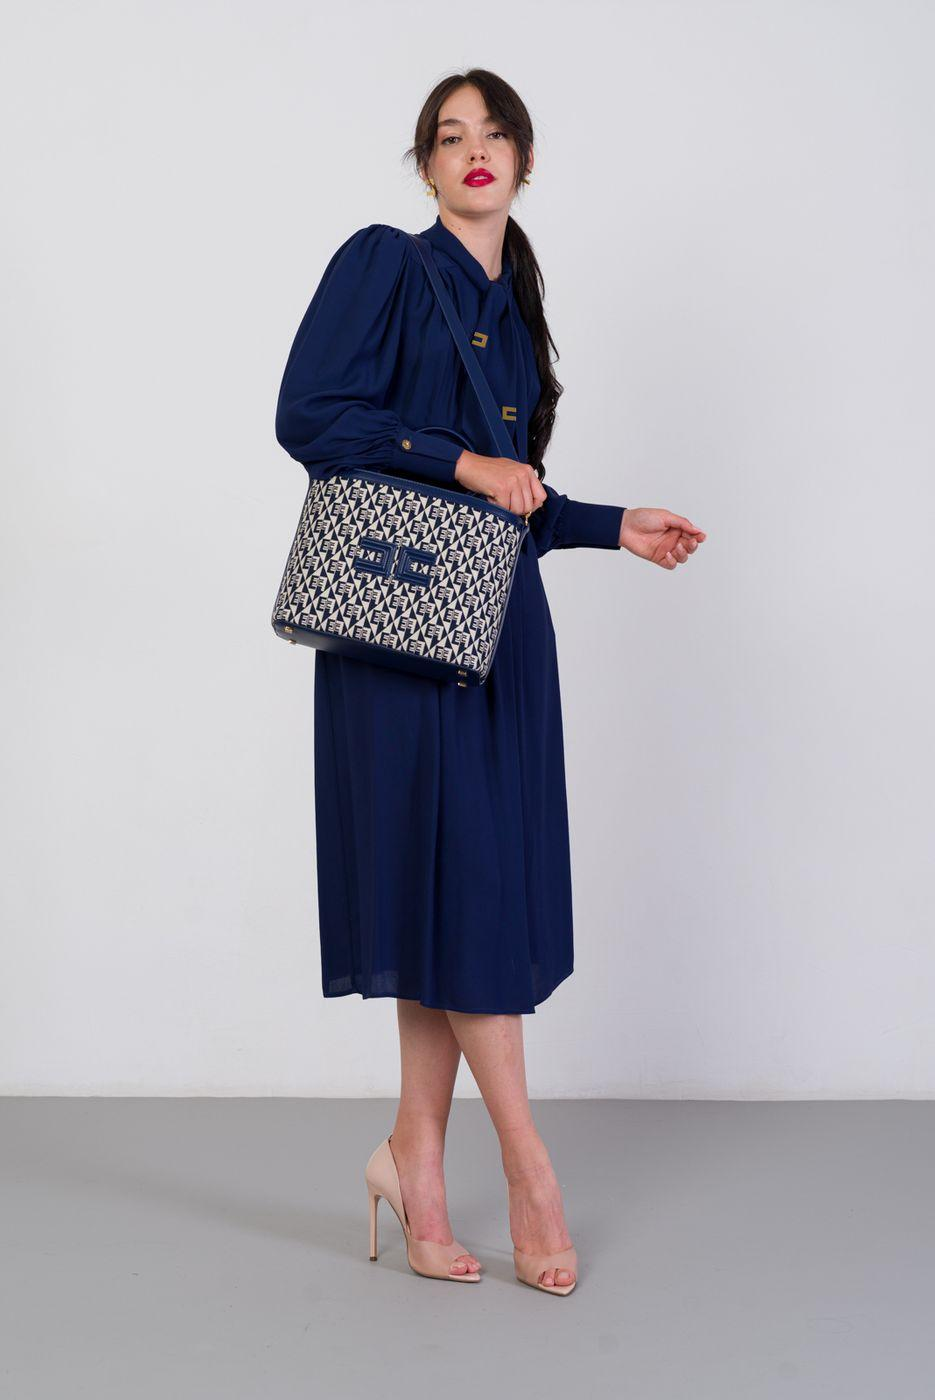ELISABETTA-FRANCHI: (339, 524, 449, 598)
